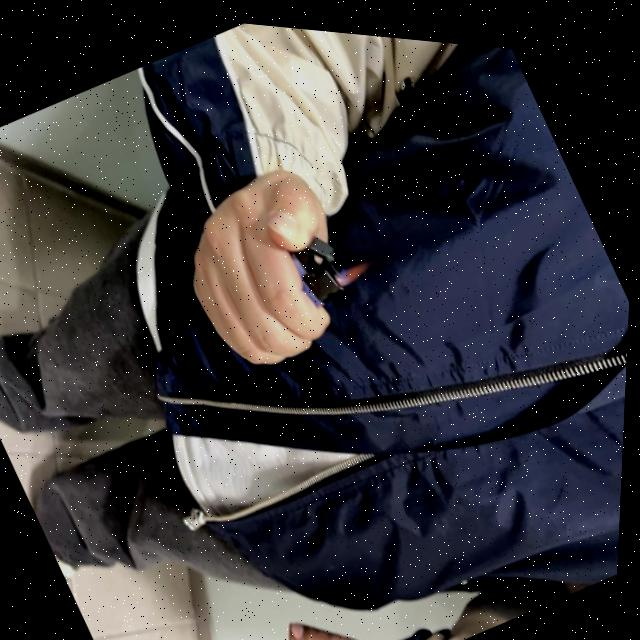Fire: (333, 249, 375, 284)
